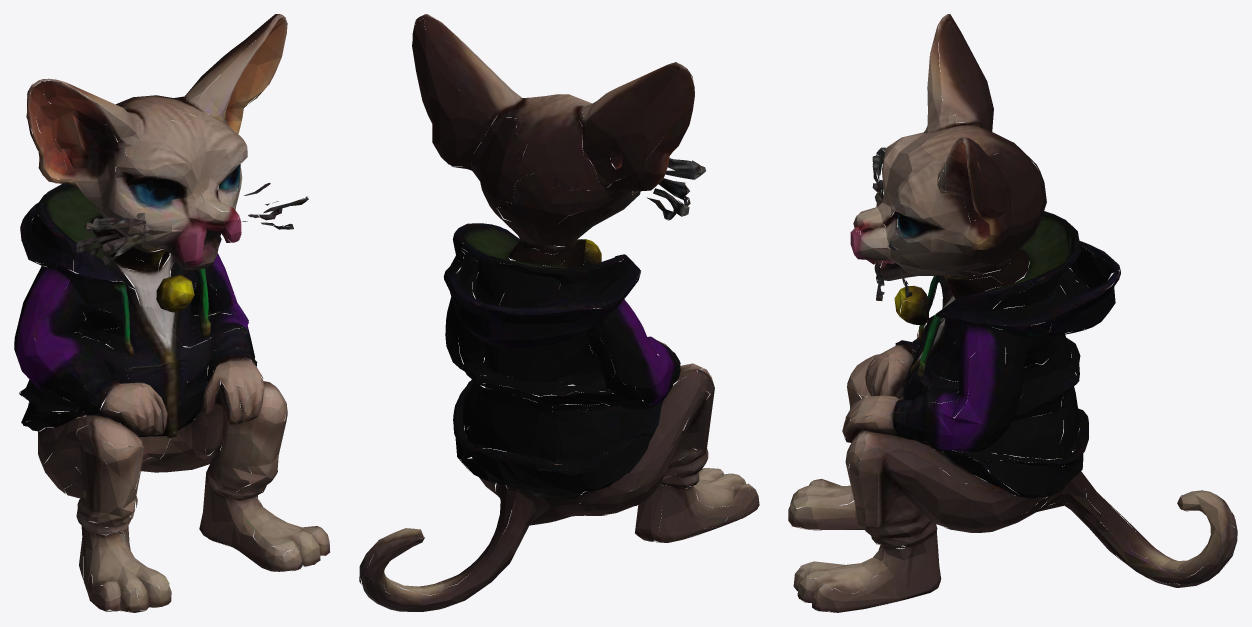
The model's file is char_rurik.glb.
3 views of the same model, side by side, from view 1: azimuth 30°, elevation 25°; view 2: azimuth 150°, elevation 25°; view 3: azimuth 270°, elevation 25° (orthographic).
Parts seen in each view (by area): view 1: char_rurik_model; view 2: char_rurik_model; view 3: char_rurik_model.
Boxes of the visible parts, <box> form: char_rurik_model: <box>14,14,330,612</box>; char_rurik_model: <box>359,14,759,611</box>; char_rurik_model: <box>788,14,1237,612</box>.
Bounding box in the file's own units: 0.6983 × 1.21 × 1.
Materials: 1 (1 with a texture image).
